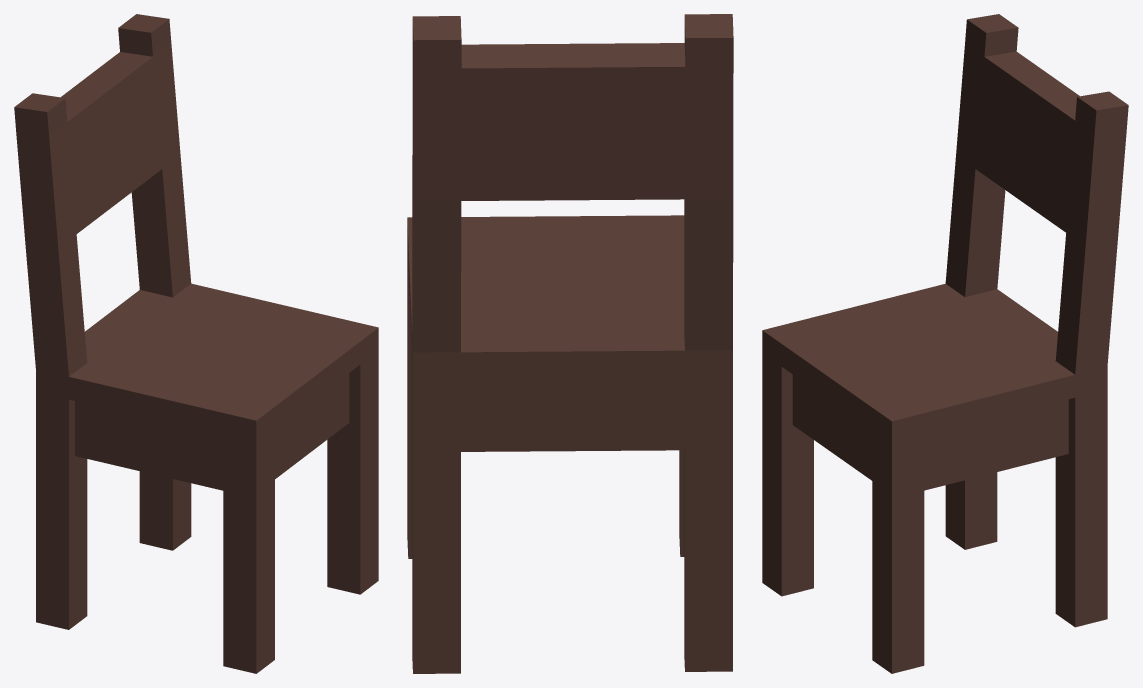
Rendered from chair.glb.
The picture shows the model from 3 angles, left to right: view 1: azimuth 30°, elevation 25°; view 2: azimuth 150°, elevation 25°; view 3: azimuth 270°, elevation 25°; orthographic projection. The views are drawn at different scales.
Parts seen in each view (by area): view 1: Cube.237; view 2: Cube.237; view 3: Cube.237.
Boxes of the visible parts, <box> form: Cube.237: <box>14,14,378,673</box>; Cube.237: <box>407,14,733,673</box>; Cube.237: <box>762,14,1128,673</box>.
Size of the model in its own units: 1.38 by 2.17 by 1.41.
1 material, 1 textured.
